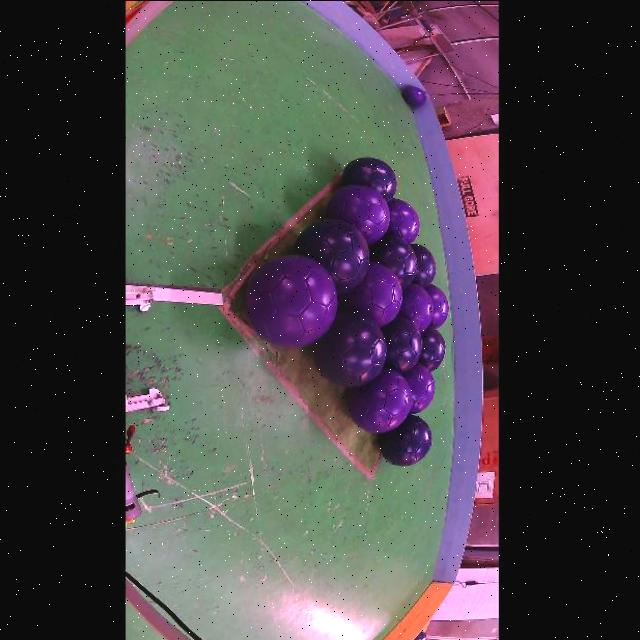B: (294, 219, 369, 293), (313, 312, 387, 386), (369, 234, 417, 289), (379, 415, 431, 465), (343, 156, 396, 201), (381, 316, 422, 373), (418, 326, 445, 372), (411, 243, 436, 288), (401, 85, 426, 107)
P: (245, 254, 336, 347), (347, 368, 412, 433), (338, 262, 403, 326), (326, 184, 390, 243), (397, 284, 434, 332), (403, 363, 435, 414), (386, 198, 419, 243), (426, 284, 449, 328)
